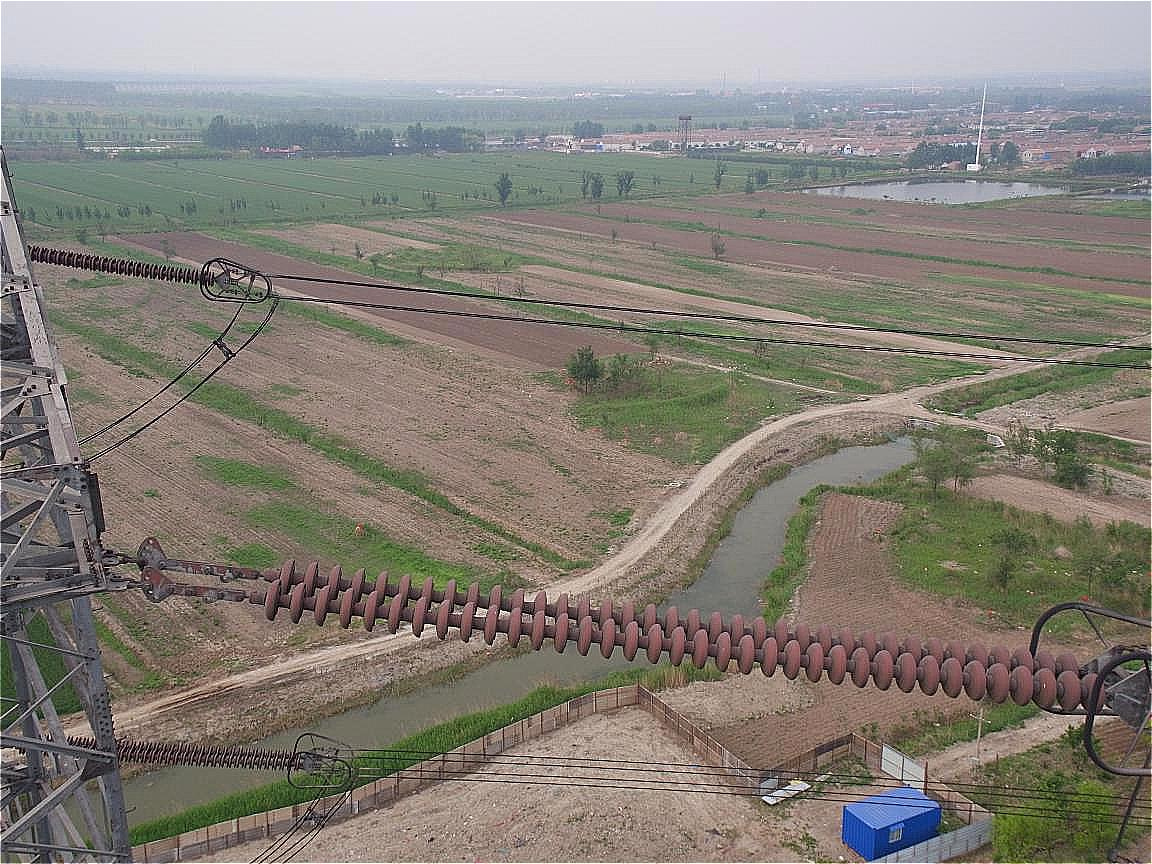insultor1: (250, 554, 1125, 732)
